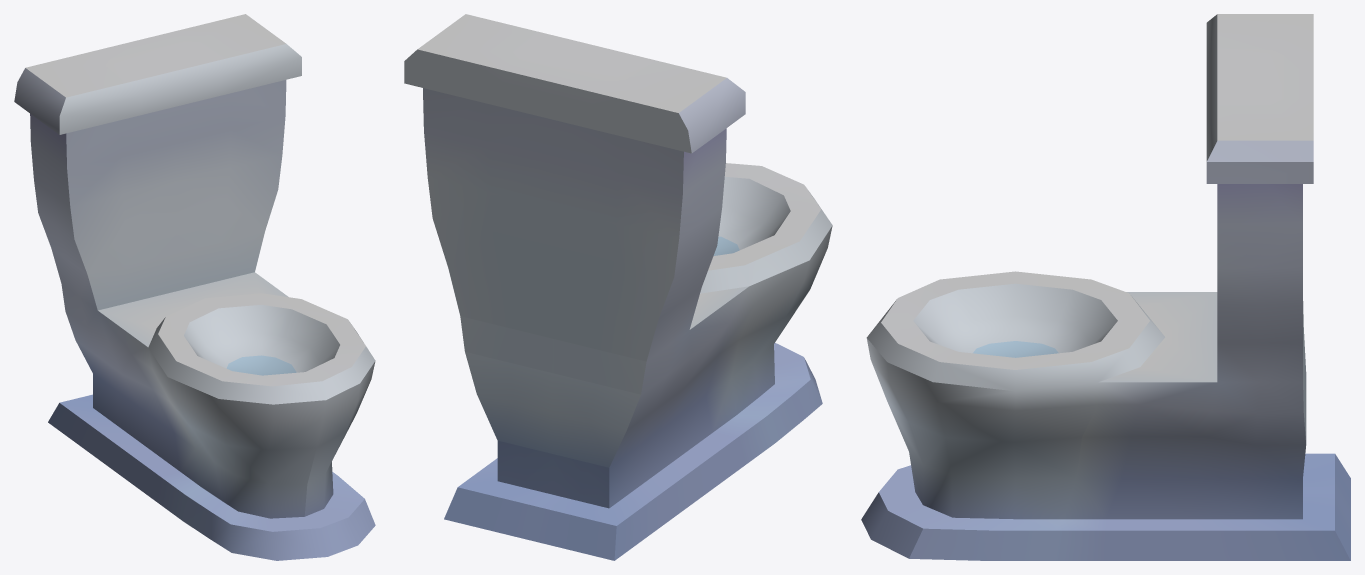
File: toilet_body.glb
3 views of the same model, side by side, from view 1: azimuth 30°, elevation 25°; view 2: azimuth 150°, elevation 25°; view 3: azimuth 270°, elevation 25° (orthographic). The views are drawn at different scales.
Visible parts, largest first — view 1: toilet_body; view 2: toilet_body; view 3: toilet_body.
Part boxes in pixels (x1,y1,x2,y2): toilet_body: (14,14,375,560); toilet_body: (404,14,832,560); toilet_body: (861,14,1350,560).
Size of the model in its own units: 0.7838 by 1.16 by 1.16.
